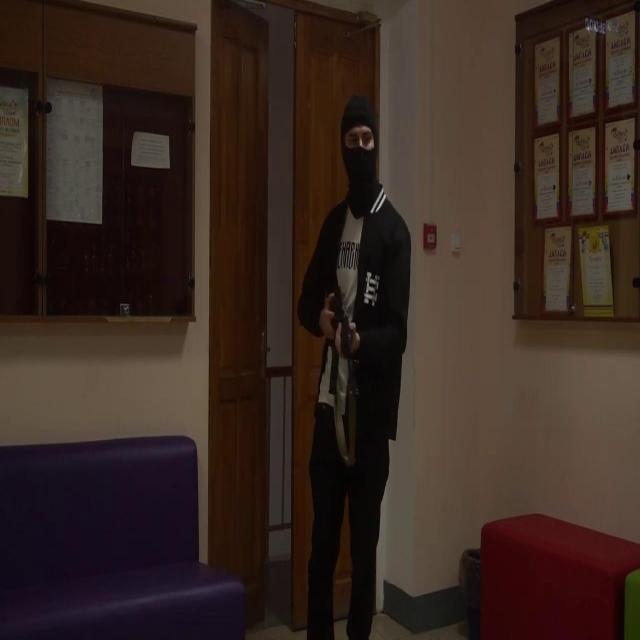pistol: (322, 254, 360, 404)
